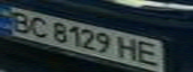1: (63, 24, 84, 47)
2: (78, 26, 96, 52)
8: (48, 19, 69, 44)
9: (93, 29, 115, 56)
B: (3, 8, 36, 34)
C: (24, 15, 54, 38)
E: (136, 39, 166, 69)
H: (115, 34, 142, 62)
